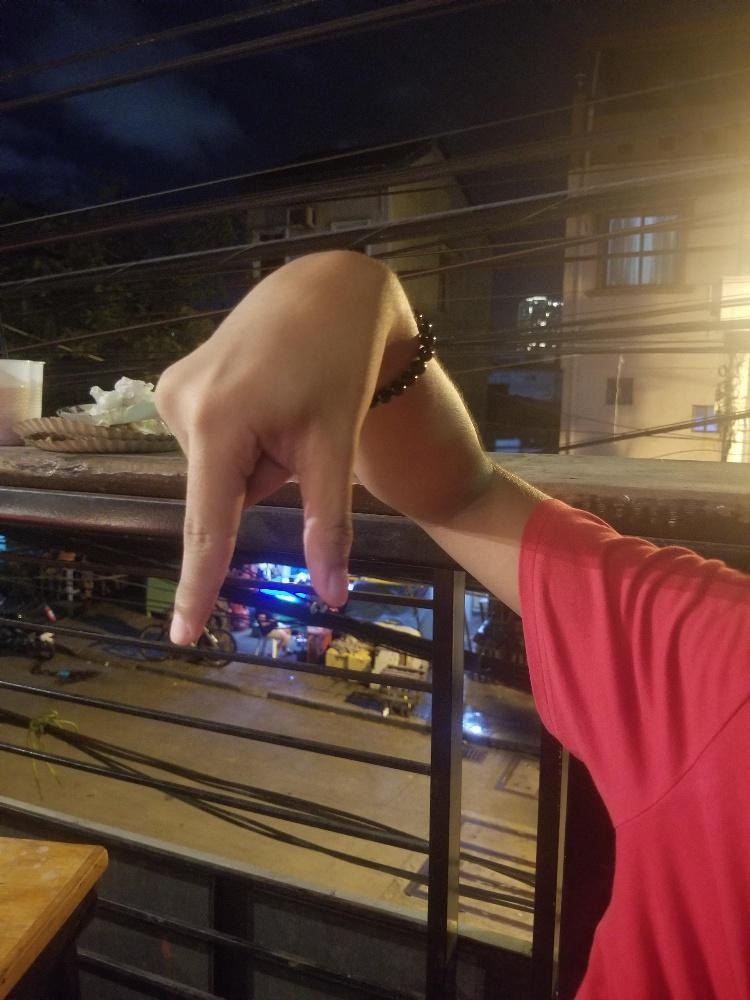q: (153, 249, 387, 645)
